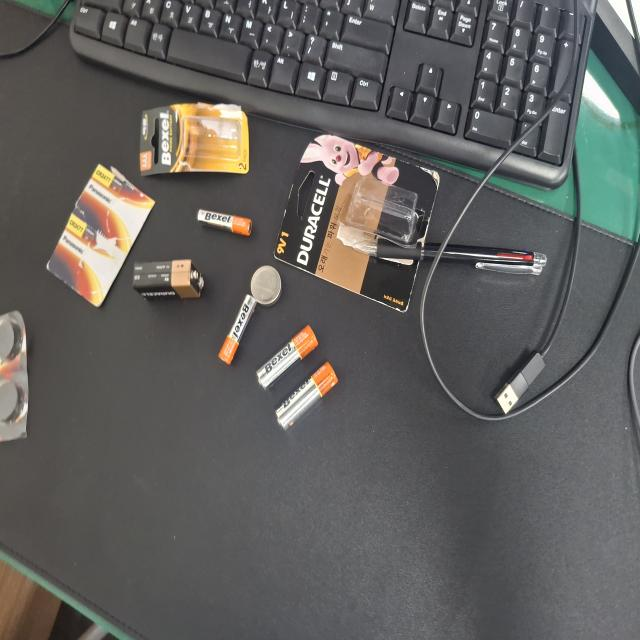9V: (255, 178, 285, 272)
AA: (158, 368, 208, 450), (188, 342, 236, 424)
AAA: (207, 292, 259, 342), (304, 263, 324, 335)
COIN: (250, 334, 280, 375)
